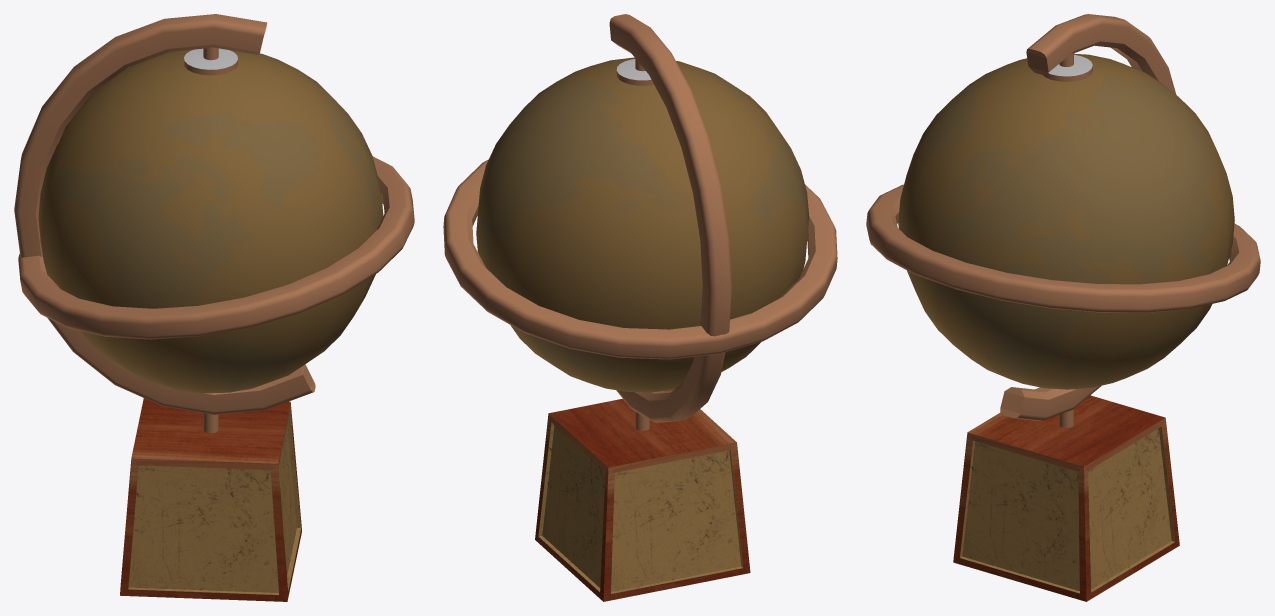
The model's file is glo.glb.
3 renders of one model, left to right at view 1: azimuth 30°, elevation 25°; view 2: azimuth 150°, elevation 25°; view 3: azimuth 270°, elevation 25°, orthographic. The views are drawn at different scales.
Parts seen in each view (by area): view 1: pCylinder12; view 2: pCylinder12; view 3: pCylinder12.
Part boxes in pixels (x1,y1,x2,y2): pCylinder12: [14, 14, 414, 601]; pCylinder12: [443, 14, 837, 601]; pCylinder12: [866, 14, 1260, 601].
Bounding box in the file's own units: 1.13 × 1.7 × 1.15.
Materials: 1 (1 with a texture image).
